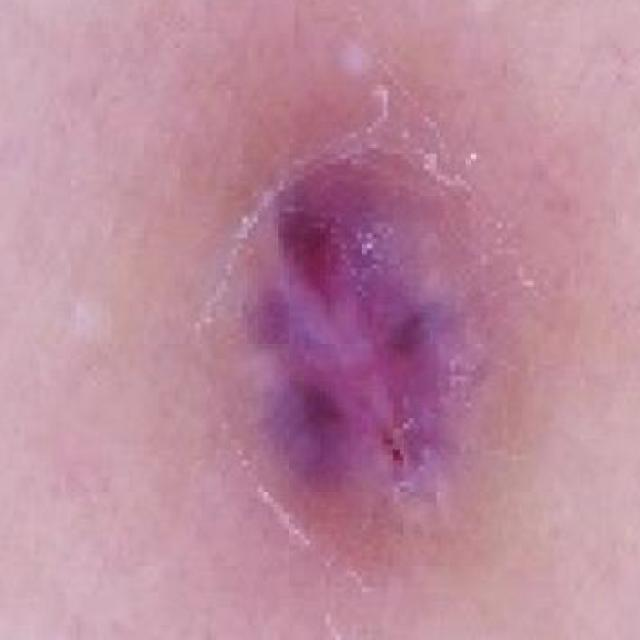VASC: (218, 94, 542, 638)
